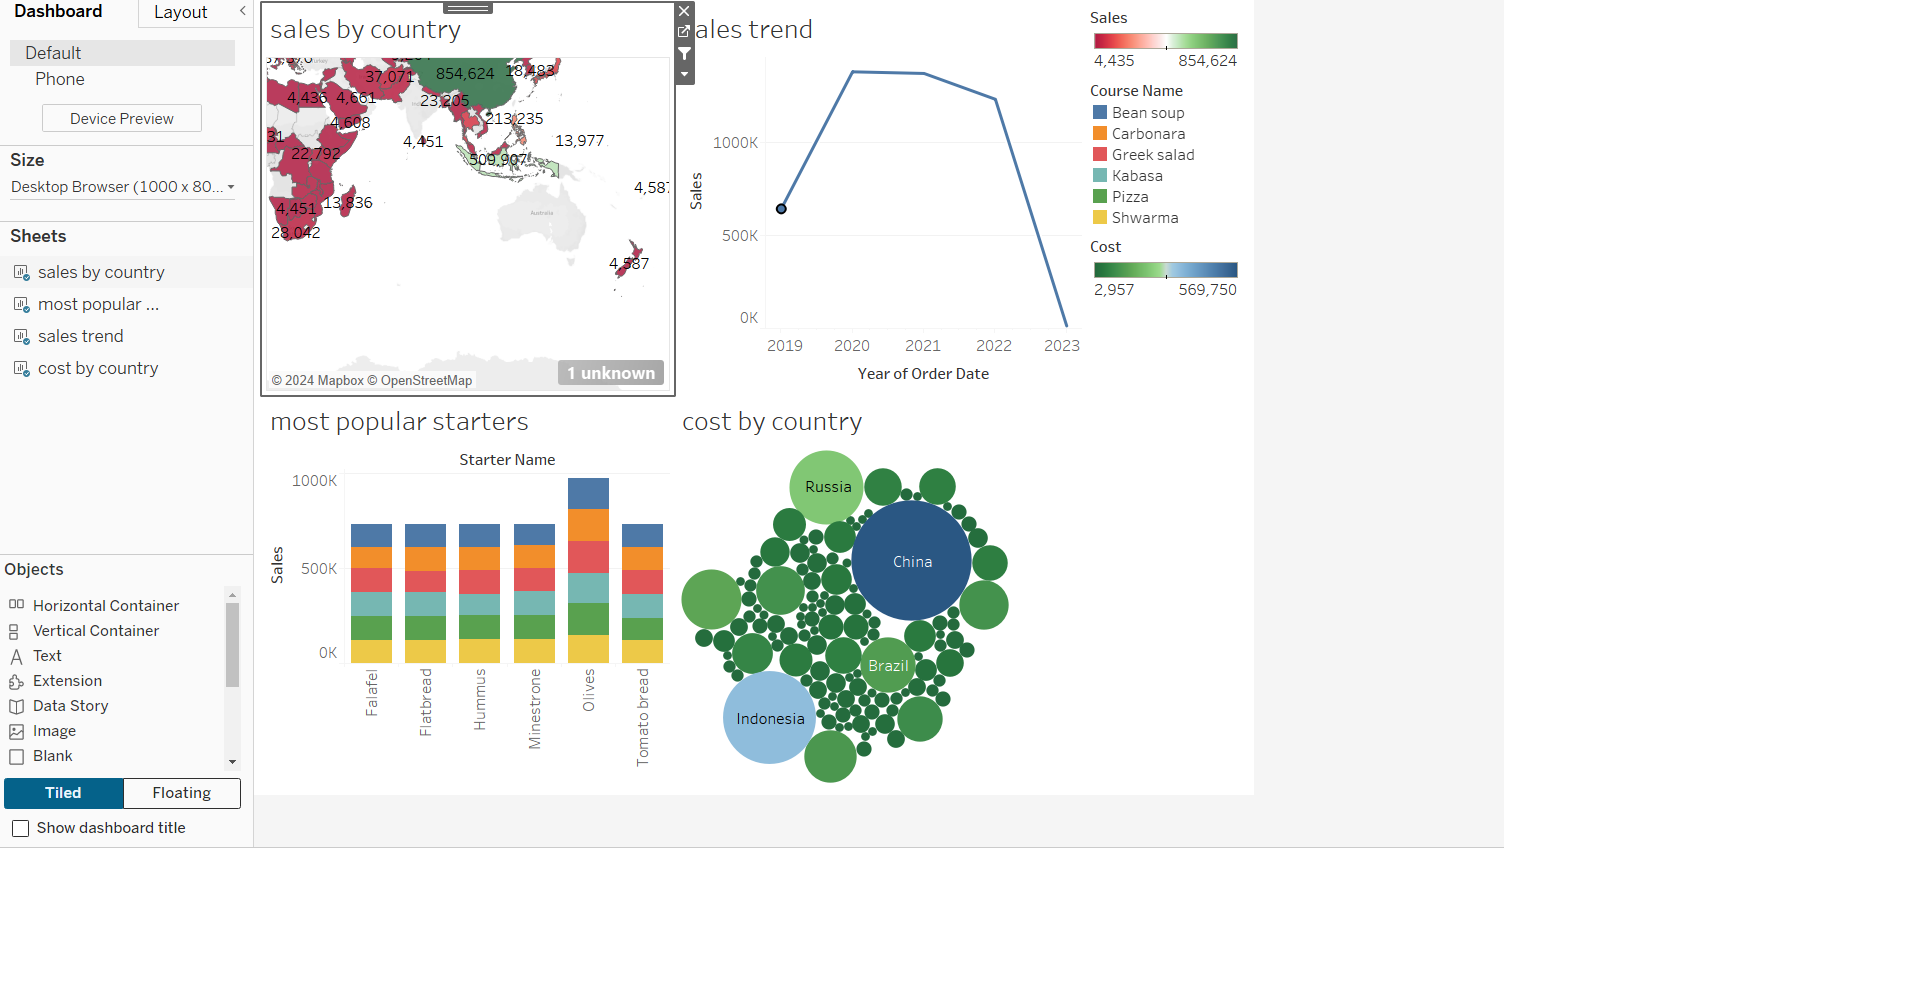

The dashboard page shown, as its layout file describes it:
{"tool":"tableau","page":{"name":"sales and price board","canvas":[1000,800],"ordinal":0},"visuals":[{"type":"worksheet","title":"sales by country","mark":"Automatic","box":[8,8,412,392]},{"type":"worksheet","title":"sales trend","mark":"Automatic","rows":["Sales"],"cols":["Order Date"],"box":[420,8,412,392]},{"type":"legend","title":"sales by country","param":"[federated.13ozoa7055rzqj1a10kvc02goxld].[sum:Sales:qk]","box":[832,8,160,73]},{"type":"legend","title":"most popular starters","param":"[federated.13ozoa7055rzqj1a10kvc02goxld].[none:Course Name:nk]","box":[832,81,160,156]},{"type":"legend","title":"cost by country","param":"[federated.13ozoa7055rzqj1a10kvc02goxld].[sum:Cost:qk]","box":[832,237,160,73]},{"type":"worksheet","title":"most popular starters","mark":"Automatic","rows":["Sales"],"cols":["Starter Name"],"box":[8,400,412,392]},{"type":"worksheet","title":"cost by country","mark":"Circle","box":[420,400,412,392]}]}

Visuals, with their boxes on the page's 1000x800 design canvas (x1, y1, x2, y2). These are canvas units, not pixel positions in the 1918x997 screenshot, which may show the page scaled, cropped or inside an application window:
"sales by country" worksheet: (left=8, top=8, right=420, bottom=400)
"sales trend" worksheet: (left=420, top=8, right=832, bottom=400)
"sales by country" legend: (left=832, top=8, right=992, bottom=81)
"most popular starters" legend: (left=832, top=81, right=992, bottom=237)
"cost by country" legend: (left=832, top=237, right=992, bottom=310)
"most popular starters" worksheet: (left=8, top=400, right=420, bottom=792)
"cost by country" worksheet (Circle marks): (left=420, top=400, right=832, bottom=792)
